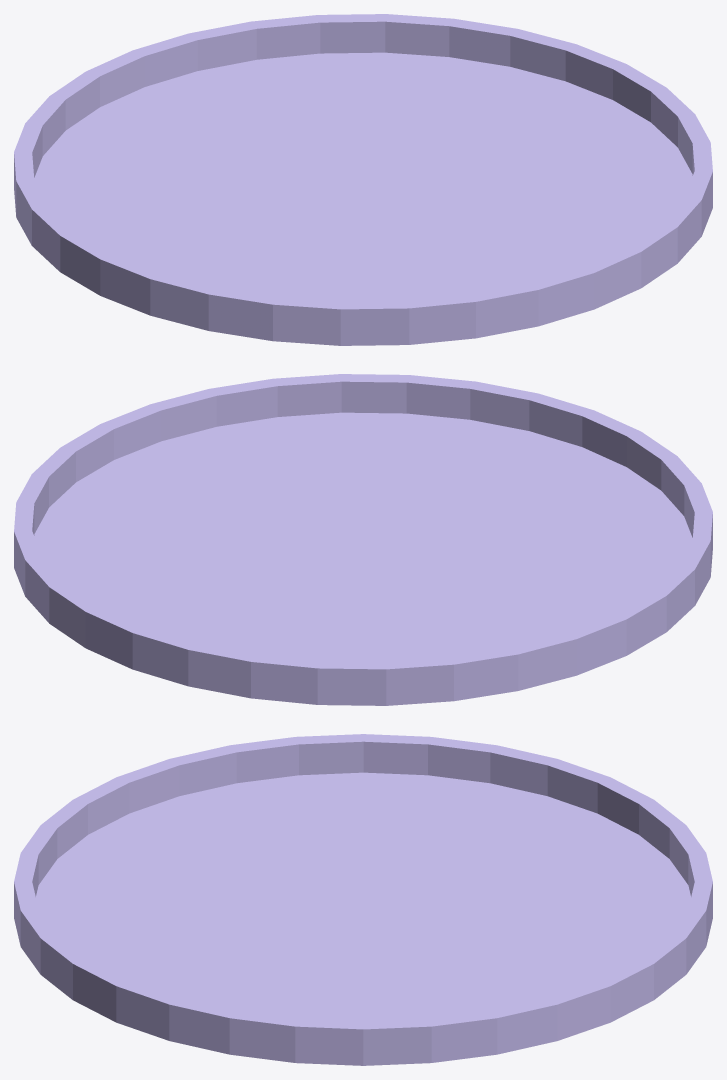
The model's file is bug-spot.fbx.
3 renders of one model, top to bottom at view 1: azimuth 30°, elevation 25°; view 2: azimuth 150°, elevation 25°; view 3: azimuth 270°, elevation 25°, orthographic.
Visible parts, largest first — view 1: BugSpot; view 2: BugSpot; view 3: BugSpot.
Boxes of the visible parts, left/top/right/bottom form: BugSpot: left=14, top=14, right=712, bottom=345; BugSpot: left=14, top=374, right=712, bottom=705; BugSpot: left=14, top=734, right=712, bottom=1065.
Size of what is drawn, in the model's own units: 78.32 by 4.51 by 78.32.
